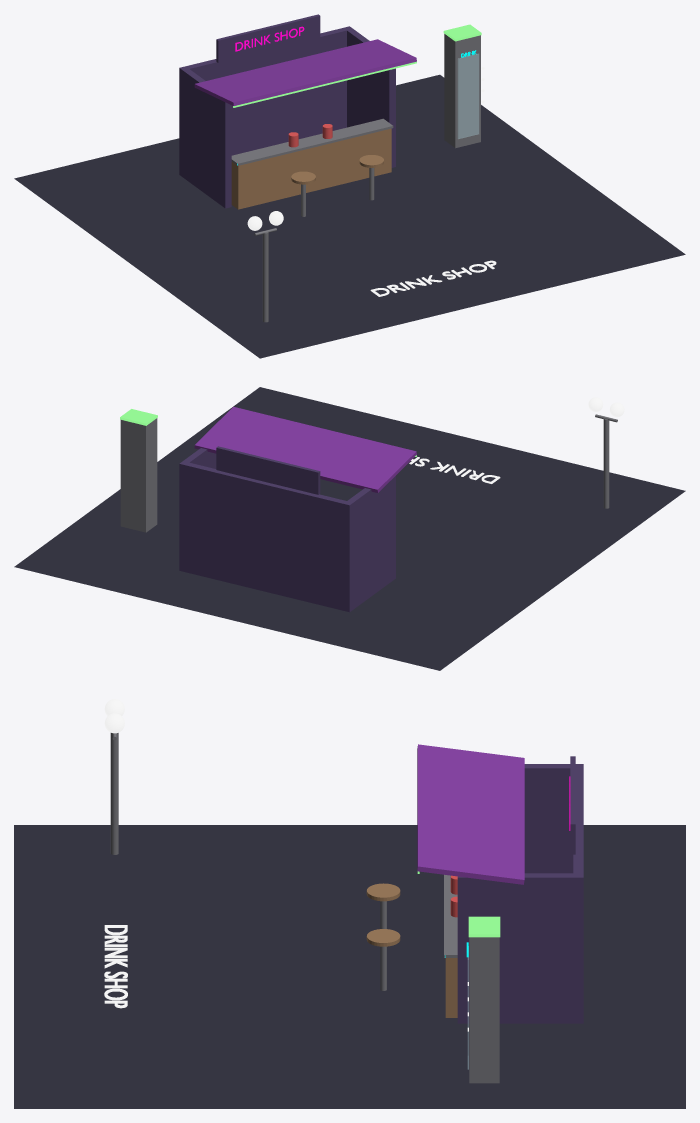
The model's file is Drink.glb.
3 views of the same model, one above another, from view 1: azimuth 30°, elevation 25°; view 2: azimuth 150°, elevation 25°; view 3: azimuth 270°, elevation 25° (orthographic). The views are drawn at different scales.
Parts seen in each view (by area): view 1: Ground, Wall_Back, Counter, Awning, Wall_Left, Vending_Body, Wall_Right, SignBoard, Vending_Glass, Counter_Top, Ground_Label, Lamp_Pole; view 2: Ground, Wall_Back, Awning, Wall_Left, Vending_Body, SignBoard, Lamp_Pole, Ground_Label, Wall_Right; view 3: Ground, Wall_Right, Awning, Wall_Left, Vending_Body, Wall_Back, Ground_Label, Lamp_Pole, Counter_Top, Counter, Vending_TopLight.
Boxes of the visible parts, x1,y1,x2,y2 form: Ground: (14, 74, 685, 358); Wall_Back: (179, 26, 352, 177); Counter: (231, 128, 391, 209); Awning: (194, 39, 416, 105); Wall_Left: (181, 67, 231, 208); Vending_Body: (444, 34, 480, 148); Wall_Right: (347, 29, 395, 167); SignBoard: (216, 14, 320, 62); Vending_Glass: (457, 53, 479, 138); Counter_Top: (231, 118, 393, 165); Ground_Label: (370, 260, 496, 296); Lamp_Pole: (262, 232, 268, 322); Ground: (14, 387, 685, 670); Wall_Back: (179, 461, 353, 612); Awning: (194, 406, 416, 492); Wall_Left: (345, 476, 395, 609); Vending_Body: (120, 418, 157, 532); SignBoard: (216, 446, 320, 494); Lamp_Pole: (603, 418, 609, 508); Ground_Label: (409, 457, 500, 483); Wall_Right: (183, 448, 216, 468); Ground: (14, 825, 685, 1108); Wall_Right: (457, 873, 577, 1023); Awning: (417, 744, 524, 884); Wall_Left: (524, 764, 577, 873); Vending_Body: (469, 937, 499, 1083); Wall_Back: (573, 764, 583, 1023); Ground_Label: (104, 925, 127, 1008); Lamp_Pole: (110, 733, 118, 854); Counter_Top: (444, 874, 457, 957); Counter: (445, 958, 457, 1017); Vending_TopLight: (468, 916, 500, 937).
Bounding box in the file's own units: 10 × 2.91 × 10.
